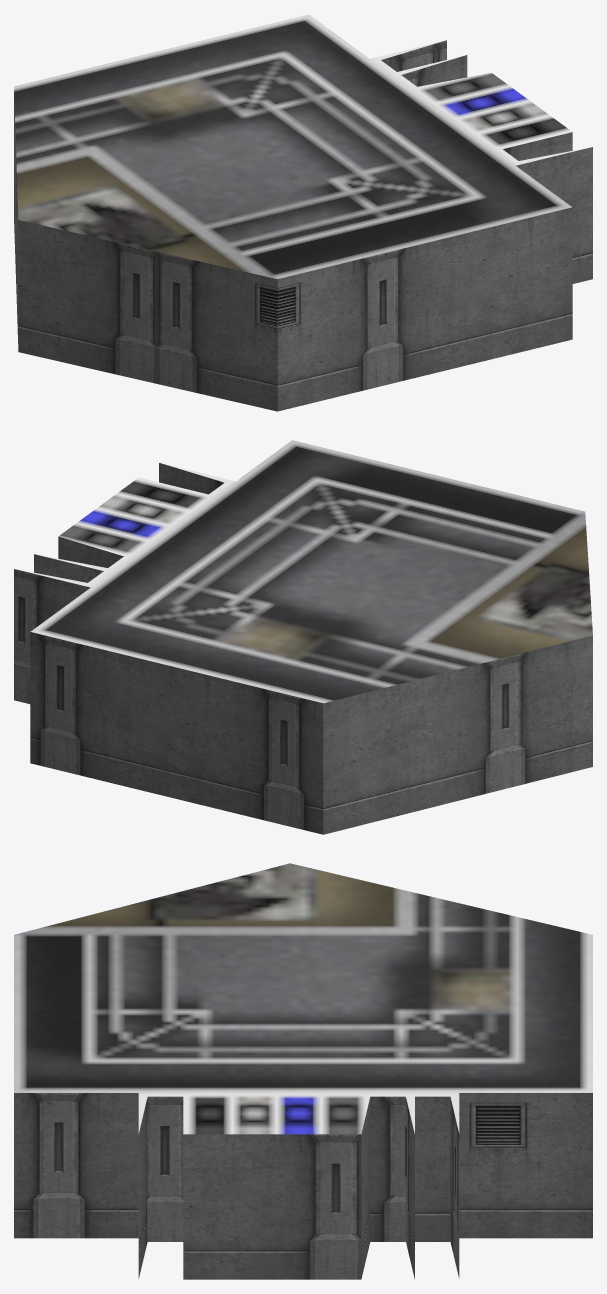
Rendered from BuildingSystem-03-Advance-04-ReinforcedLow-H-100-04.glb.
3 views of the same model, one above another, from view 1: azimuth 30°, elevation 25°; view 2: azimuth 150°, elevation 25°; view 3: azimuth 270°, elevation 25° (orthographic). The views are drawn at different scales.
Parts seen in each view (by area): view 1: buildings/saxarba/SMV_Buildings/BuildingSystem-03-Advance-04; view 2: buildings/saxarba/SMV_Buildings/BuildingSystem-03-Advance-04; view 3: buildings/saxarba/SMV_Buildings/BuildingSystem-03-Advance-04.
Part boxes in pixels (bbox=[...]): buildings/saxarba/SMV_Buildings/BuildingSystem-03-Advance-04: bbox=[14, 14, 592, 411]; buildings/saxarba/SMV_Buildings/BuildingSystem-03-Advance-04: bbox=[14, 440, 592, 834]; buildings/saxarba/SMV_Buildings/BuildingSystem-03-Advance-04: bbox=[14, 863, 592, 1279].
Size of the model in its own units: 72 by 18 by 65.
